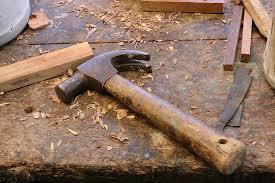hammer: (53, 47, 247, 176)
